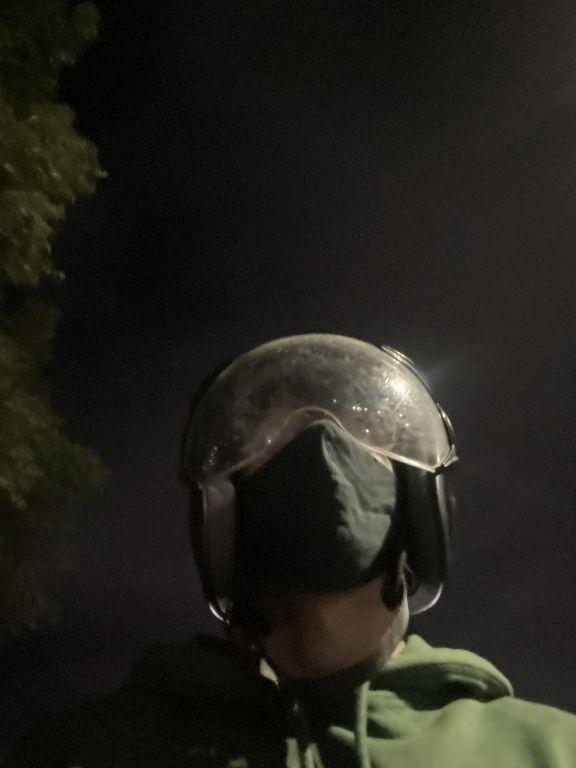helmet: (165, 334, 490, 625)
